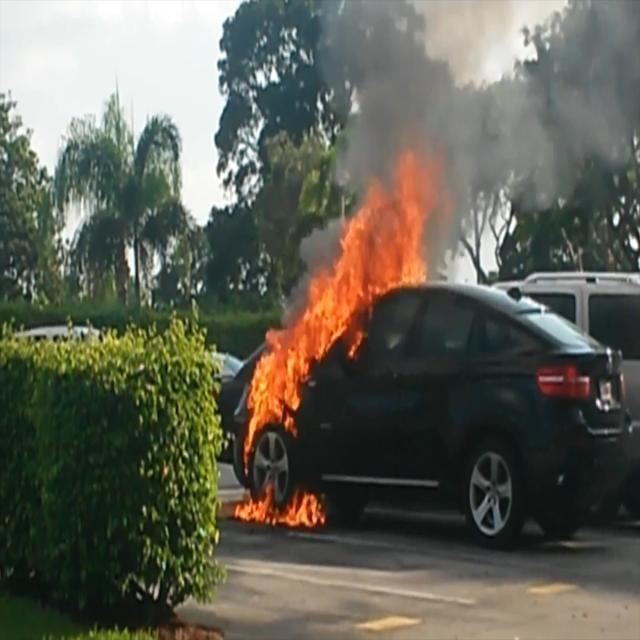fire: (230, 163, 436, 532)
